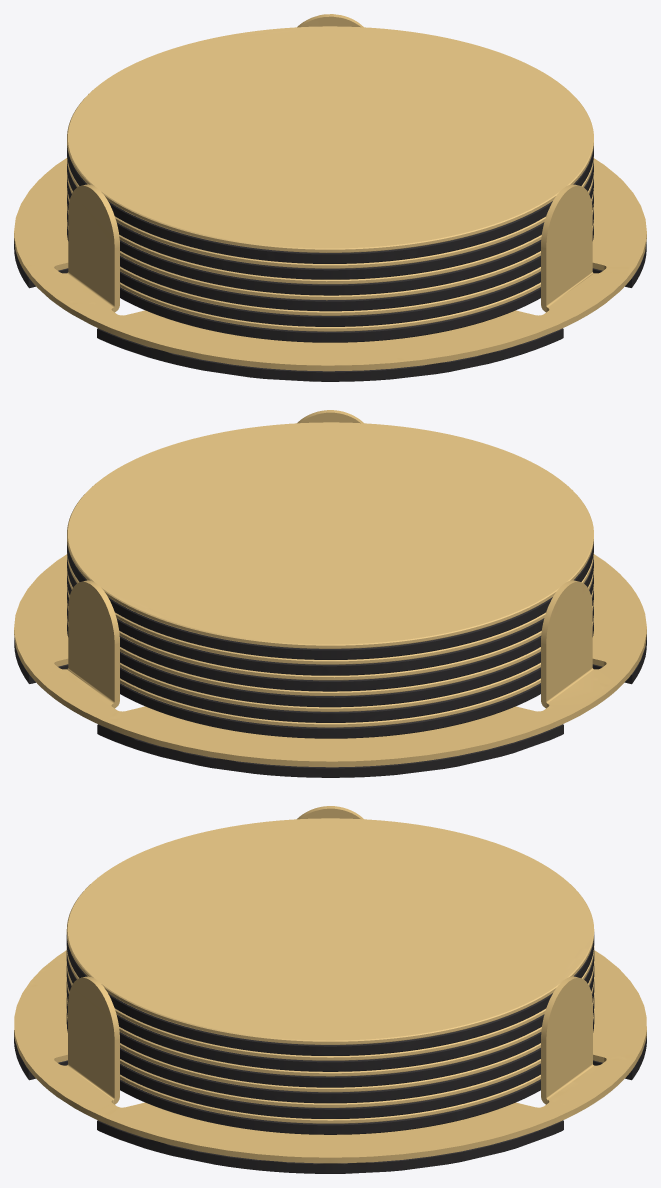
3 renders of one model, top to bottom at view 1: azimuth 30°, elevation 25°; view 2: azimuth 150°, elevation 25°; view 3: azimuth 270°, elevation 25°, orthographic.
Visible parts, largest first — view 1: 1, 2; view 2: 1, 2; view 3: 1, 2.
Boxes of the visible parts, box(x1,y1,x2,y2) form: 1: box(14, 14, 646, 371); 2: box(14, 146, 646, 381); 1: box(14, 410, 646, 767); 2: box(14, 542, 646, 777); 1: box(14, 806, 646, 1163); 2: box(14, 935, 646, 1173).
Bounding box in the file's own units: 0.102 × 0.021 × 0.102.
2 materials, 2 textured.
